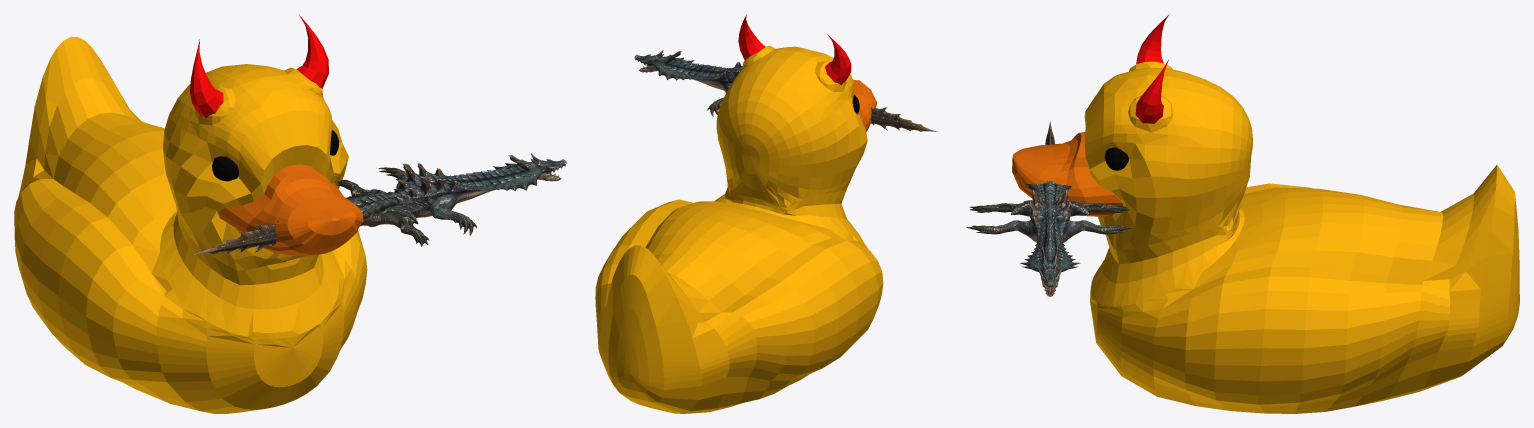
The model's file is devilduk.fbx.
3 views of the same model, side by side, from view 1: azimuth 30°, elevation 25°; view 2: azimuth 150°, elevation 25°; view 3: azimuth 270°, elevation 25° (orthographic). The views are drawn at different scales.
Visible parts, largest first — view 1: node_id8 (×4), node_id52 (×4); view 2: node_id8 (×3), node_id52 (×3); view 3: node_id8 (×3), node_id52 (×3).
Boxes of the visible parts, x1,y1,x2,y2 form: node_id8 (×4): (14,15,367,413); node_id52 (×4): (194,156,566,254); node_id8 (×3): (595,14,883,413); node_id52 (×3): (634,53,936,131); node_id8 (×3): (1012,14,1519,413); node_id52 (×3): (969,180,1129,296).
Bounding box in the file's own units: 0.5395 × 0.512 × 0.7201.
Materials: 21 (17 with a texture image).
